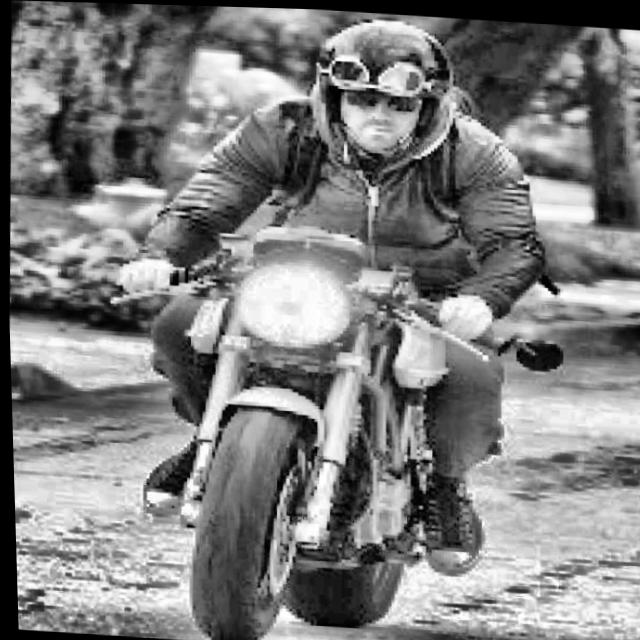motorcycle: (61, 208, 578, 640)
